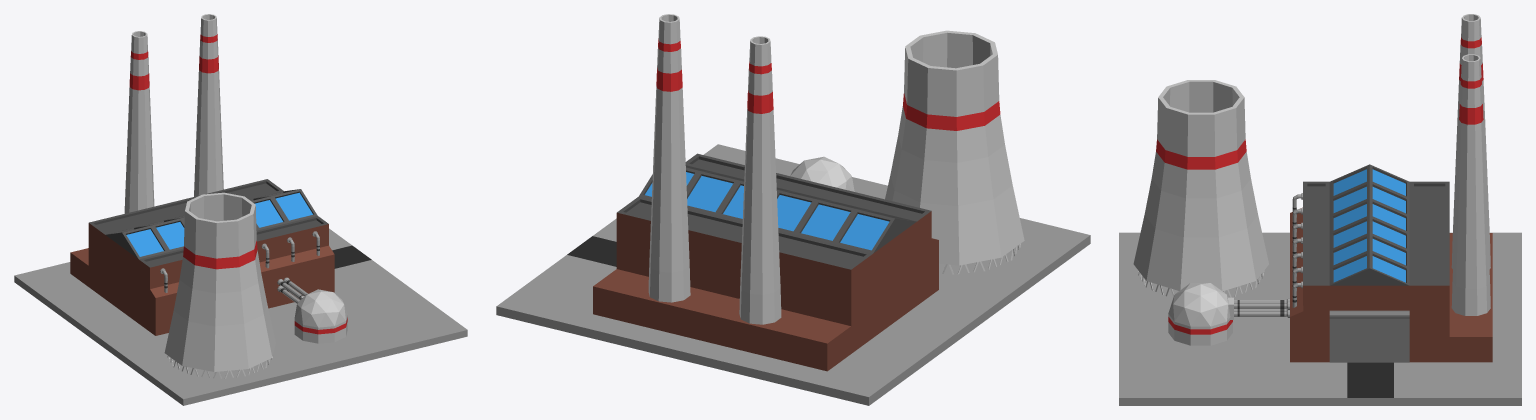
Rendered from nuclear_element.fbx.
3 views of the same model, side by side, from view 1: azimuth 30°, elevation 25°; view 2: azimuth 150°, elevation 25°; view 3: azimuth 270°, elevation 25° (orthographic). The views are drawn at different scales.
Visible parts, largest first — view 1: Ground, MainBuilding, CoolingTower, ThinCoolingTower, Silo, MainBuildingaPipes, PipeBuildingSilo; view 2: MainBuilding, Ground, CoolingTower, ThinCoolingTower, Silo; view 3: Ground, MainBuilding, CoolingTower, ThinCoolingTower, Silo, PipeBuildingSilo, MainBuildingaPipes.
Part boxes in pixels (x1=…): Ground: x1=14, y1=228, x2=467, y2=405; MainBuilding: x1=70, y1=179, x2=334, y2=335; CoolingTower: x1=164, y1=192, x2=275, y2=371; ThinCoolingTower: x1=124, y1=14, x2=223, y2=213; Silo: x1=294, y1=289, x2=347, y2=343; MainBuildingaPipes: x1=160, y1=231, x2=319, y2=292; PipeBuildingSilo: x1=277, y1=277, x2=307, y2=303; MainBuilding: x1=593, y1=153, x2=938, y2=371; Ground: x1=496, y1=144, x2=1090, y2=405; CoolingTower: x1=885, y1=30, x2=1024, y2=265; ThinCoolingTower: x1=648, y1=14, x2=781, y2=324; Silo: x1=790, y1=156, x2=854, y2=191; Ground: x1=1119, y1=232, x2=1521, y2=405; MainBuilding: x1=1290, y1=164, x2=1492, y2=362; CoolingTower: x1=1133, y1=80, x2=1268, y2=291; ThinCoolingTower: x1=1451, y1=14, x2=1490, y2=315; Silo: x1=1168, y1=283, x2=1233, y2=345; PipeBuildingSilo: x1=1234, y1=298, x2=1289, y2=317; MainBuildingaPipes: x1=1292, y1=193, x2=1302, y2=307.
Size of the model in its own units: 160 by 128 by 165.
